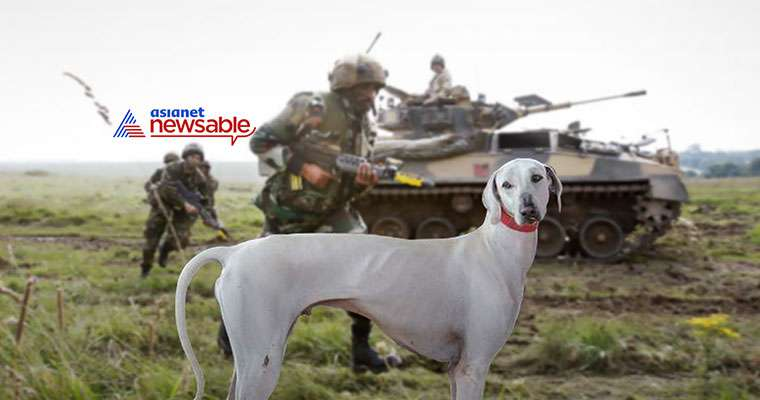dog: (175, 155, 568, 400)
